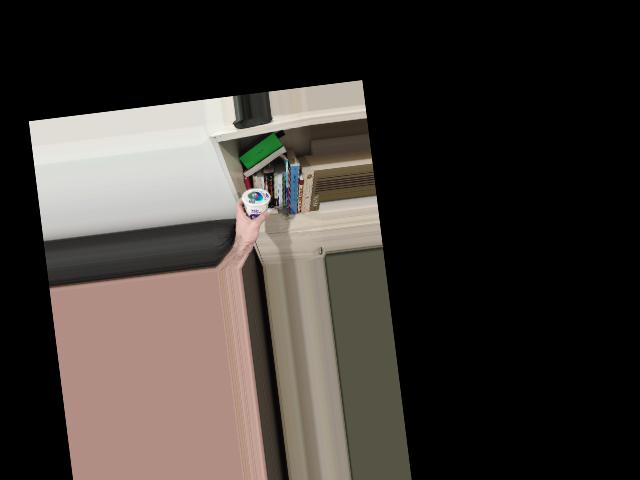cotage: (237, 184, 273, 225)
